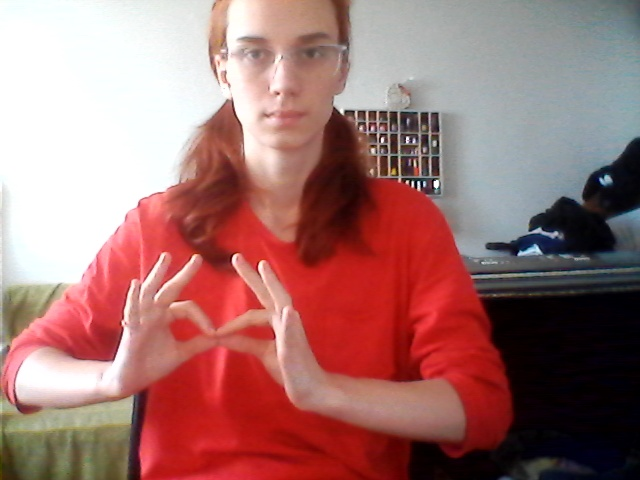b: (111, 249, 335, 419)
